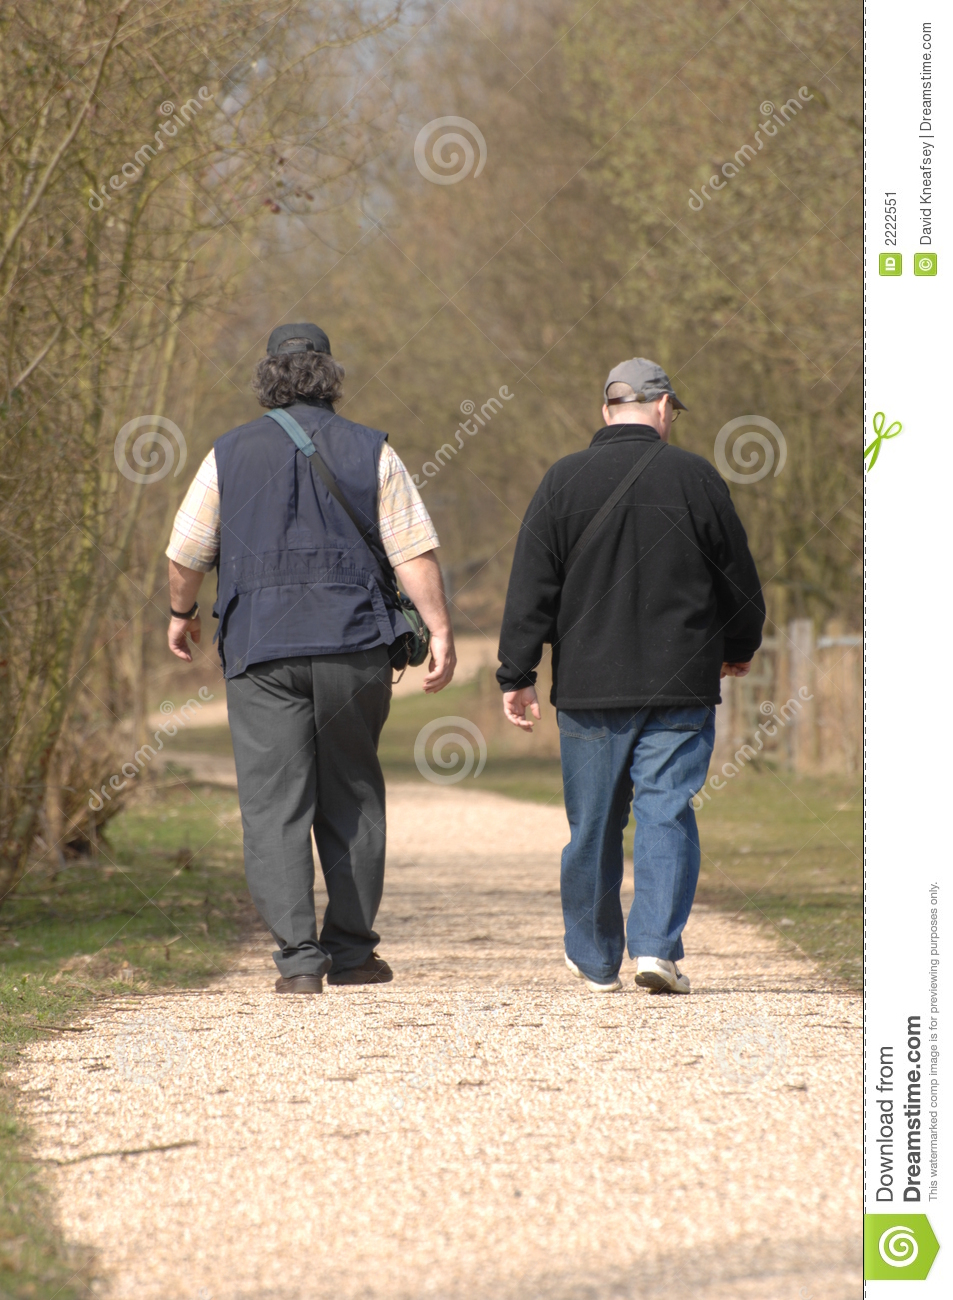Person: (155, 307, 476, 1000), (482, 348, 803, 1000)
